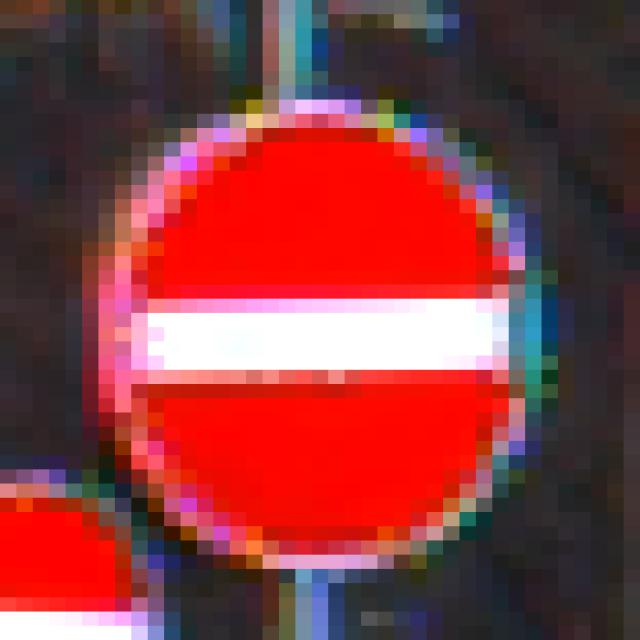No Entry: (99, 72, 559, 570)
